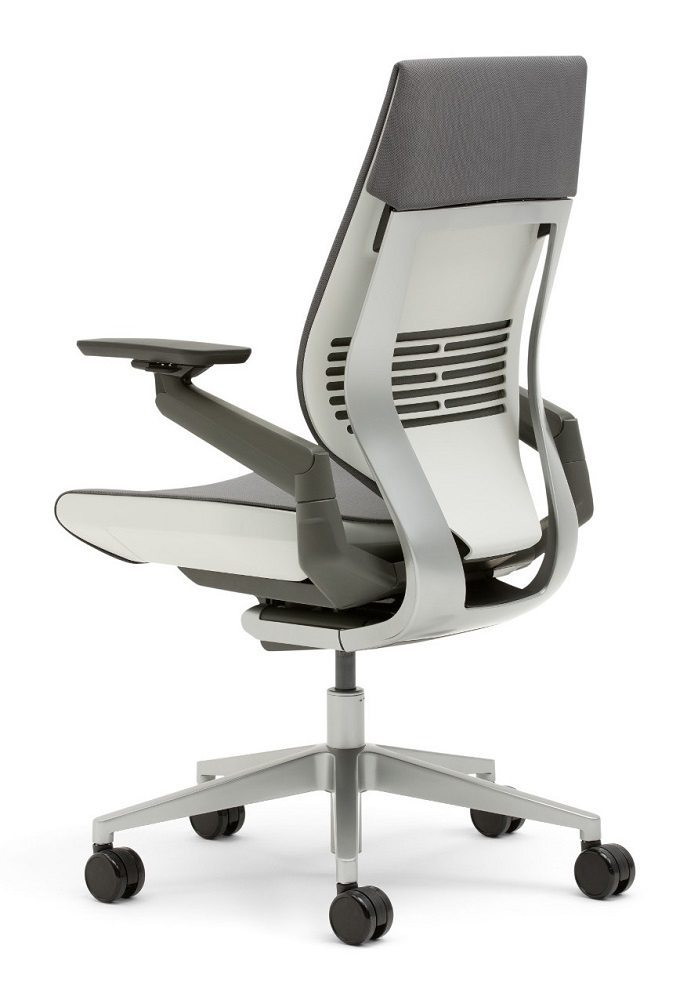chairs: (54, 54, 641, 948)
